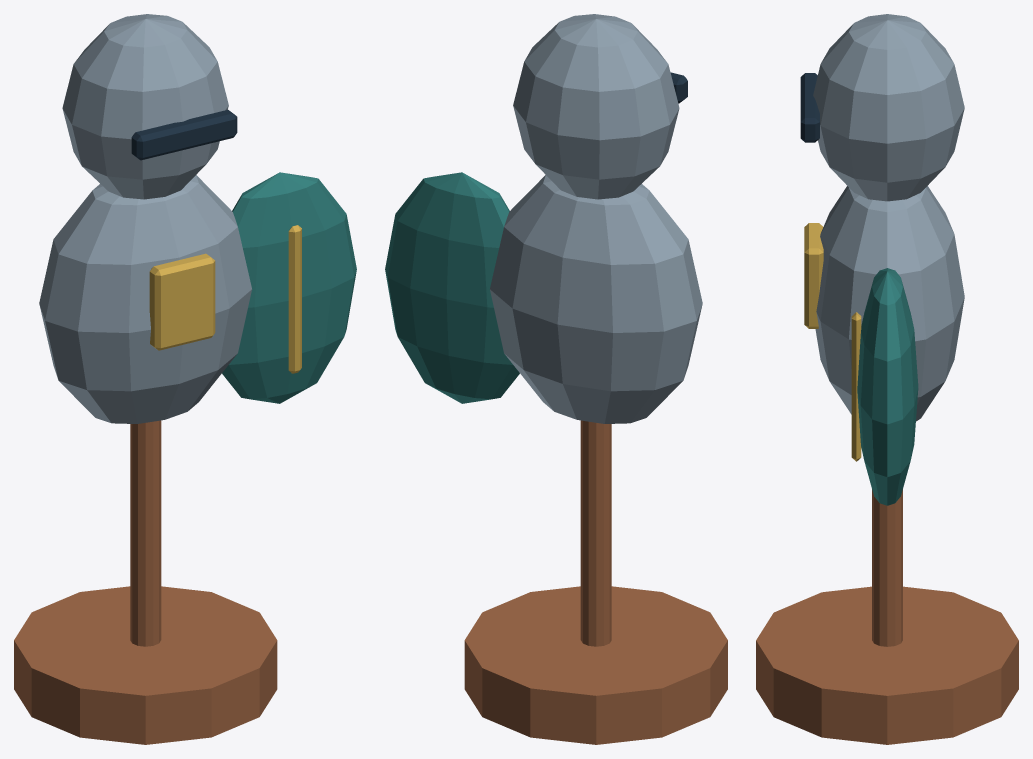
File: armor.glb
3 views of the same model, side by side, from view 1: azimuth 30°, elevation 25°; view 2: azimuth 150°, elevation 25°; view 3: azimuth 270°, elevation 25° (orthographic).
Visible parts, largest first — view 1: Base, Target0, Target1, Target2; view 2: Base, Target0, Target1, Target2; view 3: Base, Target1, Target0, Target2.
Part boxes in pixels (x1=…): Base: x1=14, y1=420, x2=277, y2=744; Target0: x1=39, y1=175, x2=251, y2=423; Target1: x1=62, y1=14, x2=237, y2=199; Target2: x1=222, y1=172, x2=356, y2=403; Base: x1=464, y1=420, x2=727, y2=744; Target0: x1=490, y1=175, x2=702, y2=423; Target1: x1=513, y1=14, x2=687, y2=199; Target2: x1=385, y1=172, x2=519, y2=403; Base: x1=756, y1=489, x2=1018, y2=744; Target1: x1=800, y1=14, x2=964, y2=201; Target0: x1=804, y1=186, x2=964, y2=421; Target2: x1=851, y1=268, x2=918, y2=505.
Bounding box in the file's own units: 0.97 × 1.91 × 0.68.
